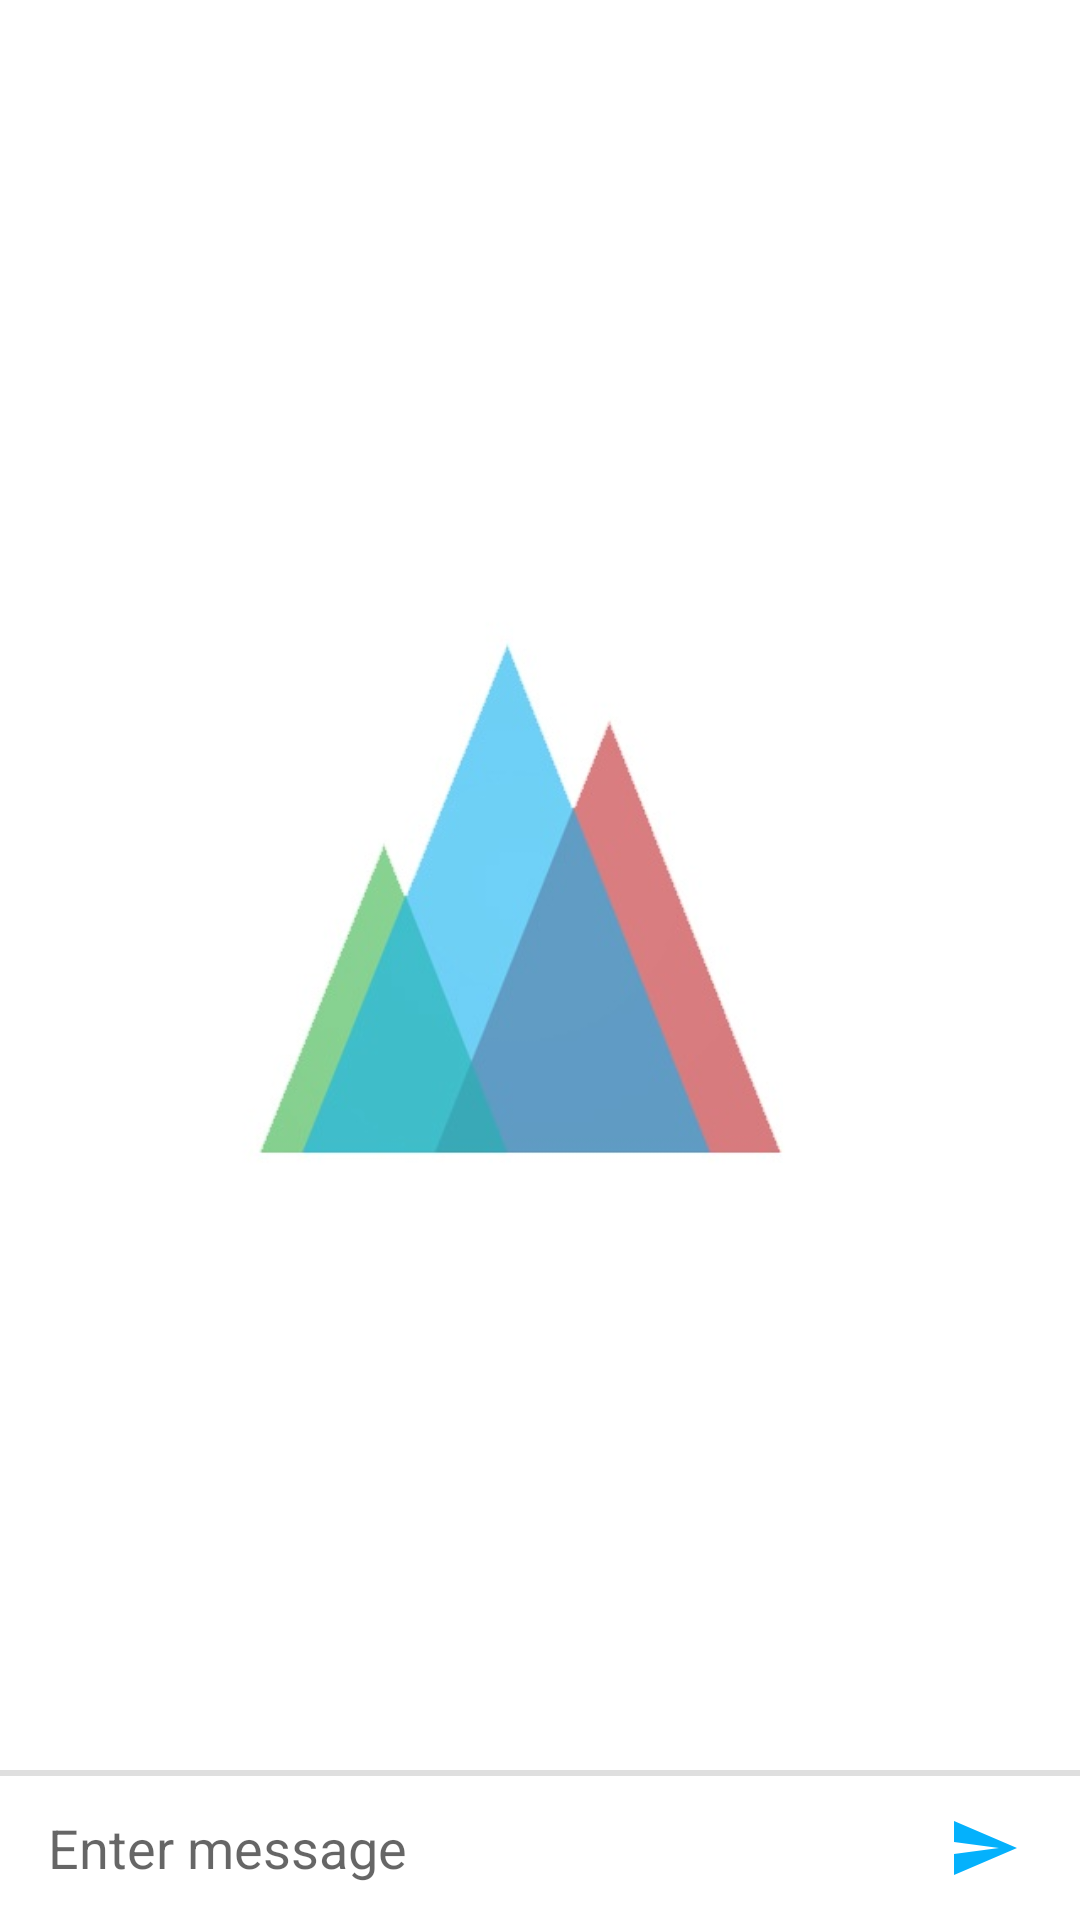

Point at icon controls on the screen. Image size 1080px×1920px, points as [x,y].
send: [985,1848]
